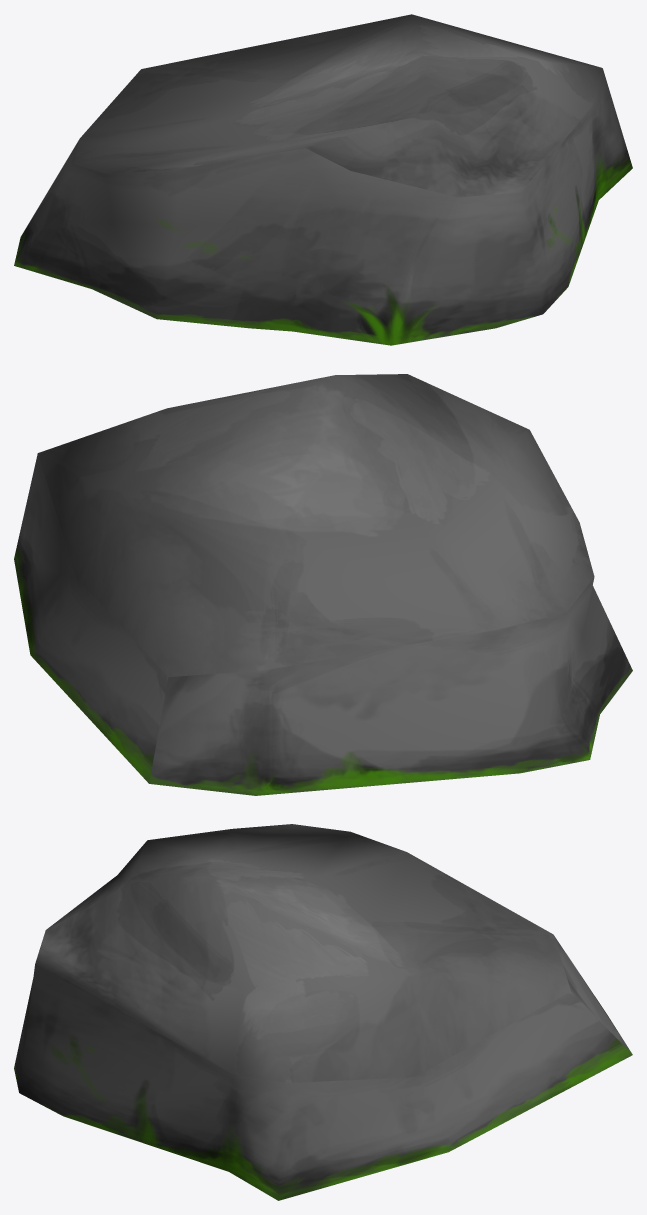
The model's file is rock2.FBX.
The picture shows the model from 3 angles, top to bottom: view 1: azimuth 30°, elevation 25°; view 2: azimuth 150°, elevation 25°; view 3: azimuth 270°, elevation 25°; orthographic projection. The views are drawn at different scales.
Visible parts, largest first — view 1: Box003; view 2: Box003; view 3: Box003.
Boxes of the visible parts, box(x1,y1,x2,y2) form: Box003: box(14, 14, 632, 345); Box003: box(14, 374, 632, 795); Box003: box(14, 824, 632, 1200).
Bounding box in the file's own units: 13.33 × 4.42 × 12.42.
